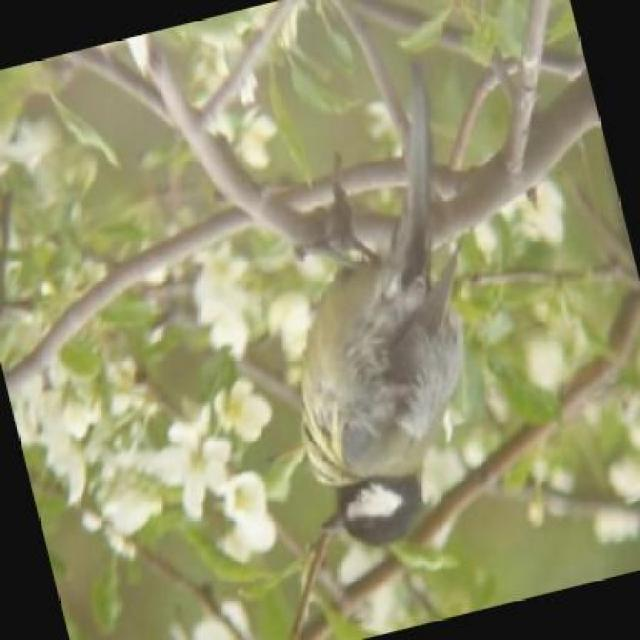Bird: (276, 192, 499, 568)
